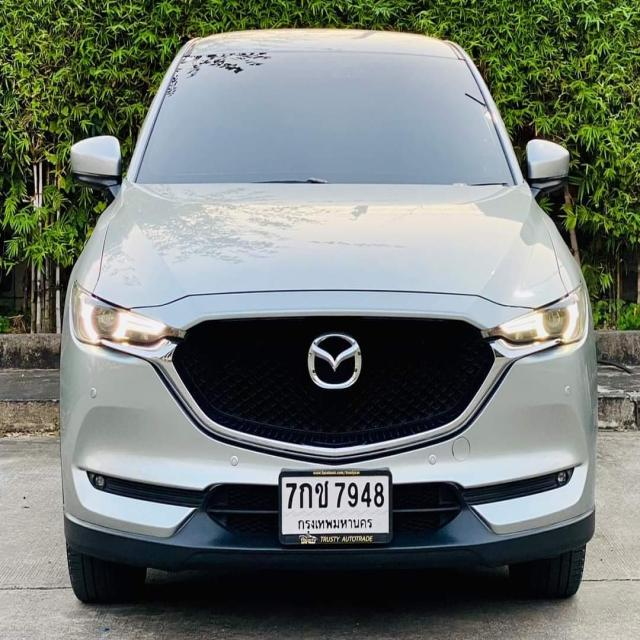license_plate: (277, 466, 394, 547)
